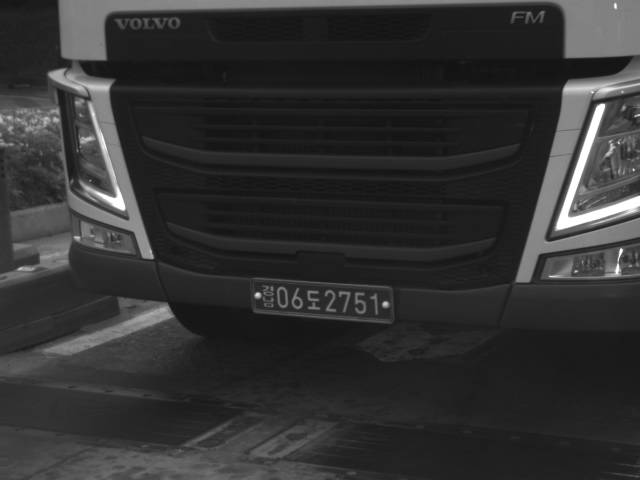car: (47, 1, 640, 341)
plate: (248, 278, 396, 323)
